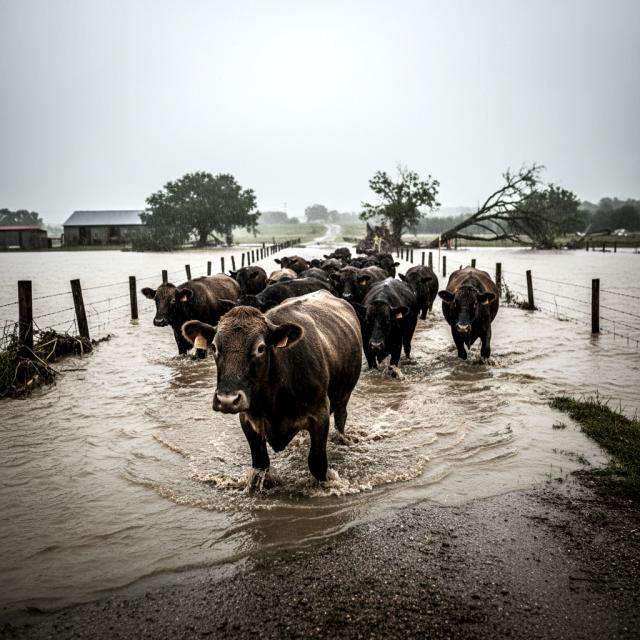cow: (177, 291, 372, 482), (136, 268, 245, 351), (438, 258, 506, 369), (359, 269, 420, 391), (214, 272, 344, 318), (401, 262, 443, 326), (326, 268, 391, 303), (218, 259, 267, 295), (300, 263, 336, 290), (376, 251, 402, 281), (268, 266, 300, 288), (321, 247, 351, 270), (276, 255, 307, 271), (346, 254, 366, 275), (361, 252, 382, 270), (306, 255, 326, 269)
